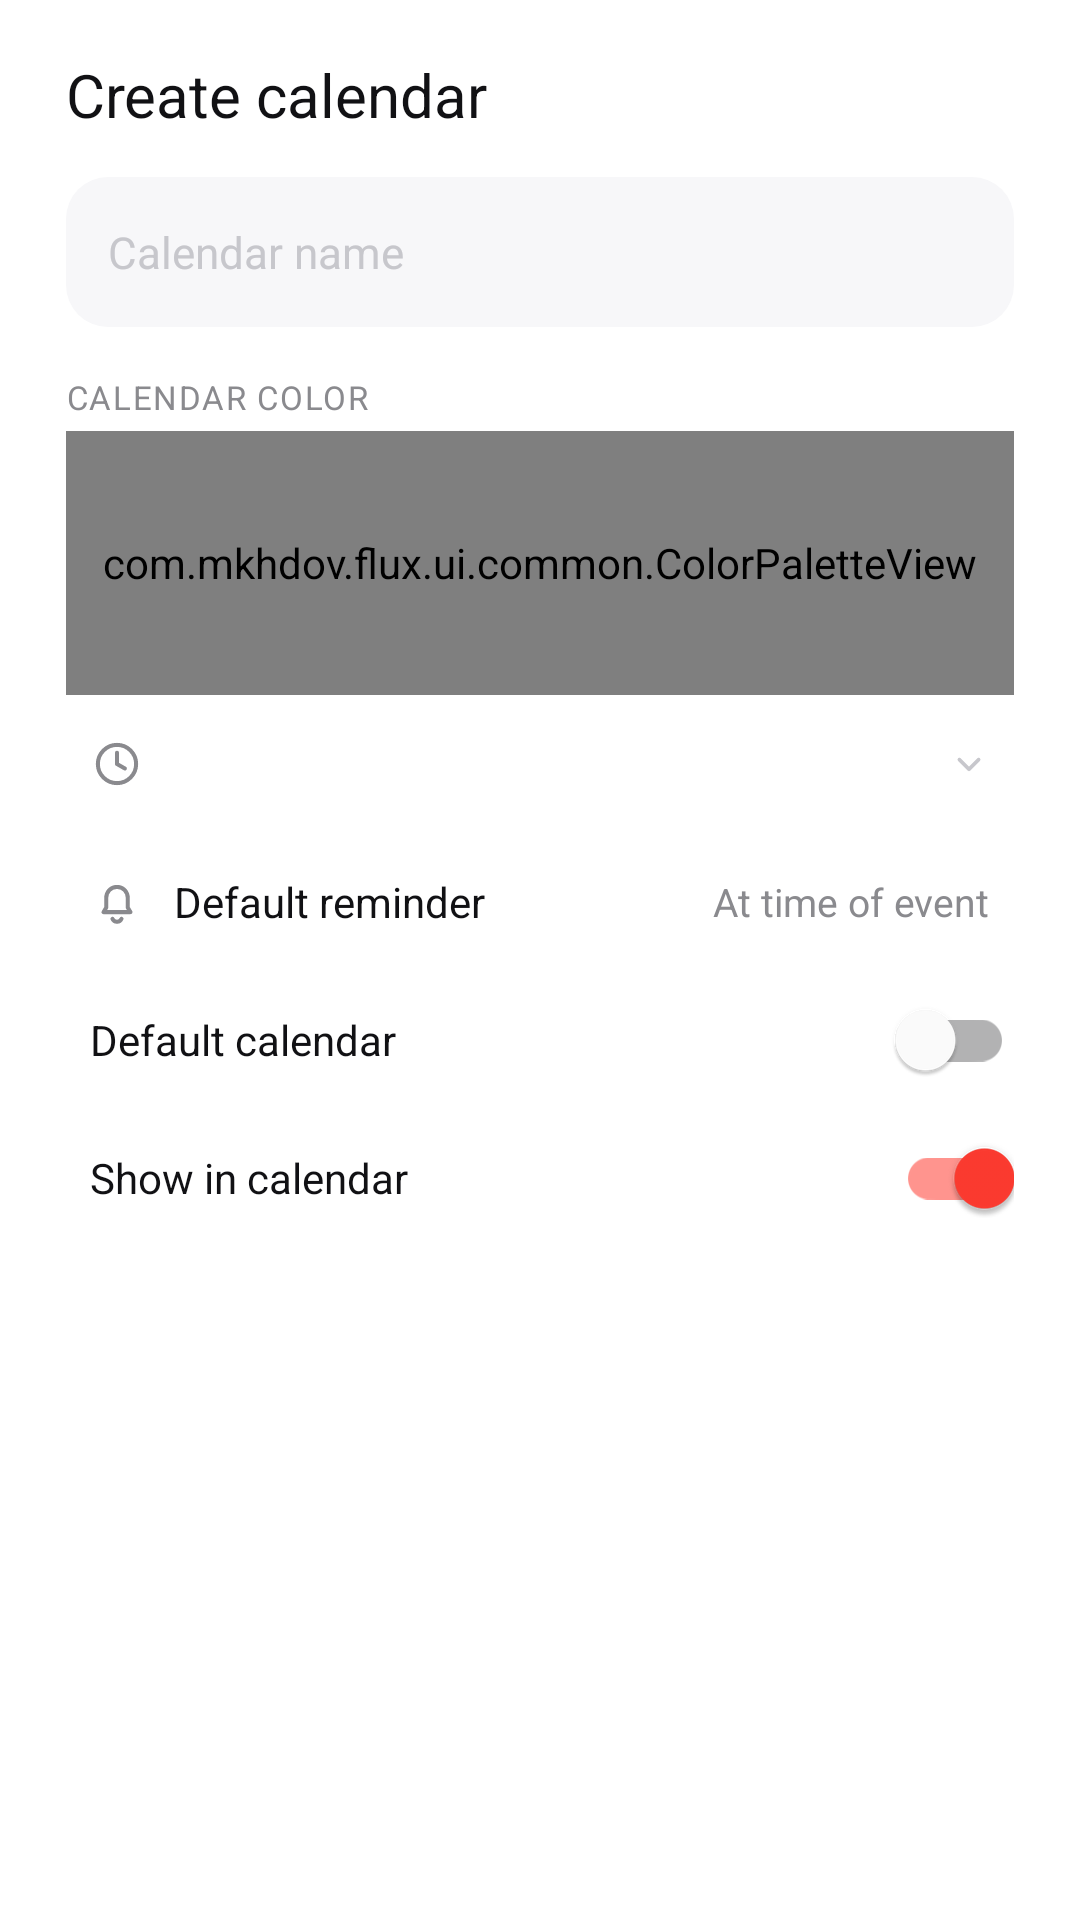

Where to tap for icons on this 1080px x 1920px app screen, as [x,y]:
clock: [117,764]
notifications: [117,904]
